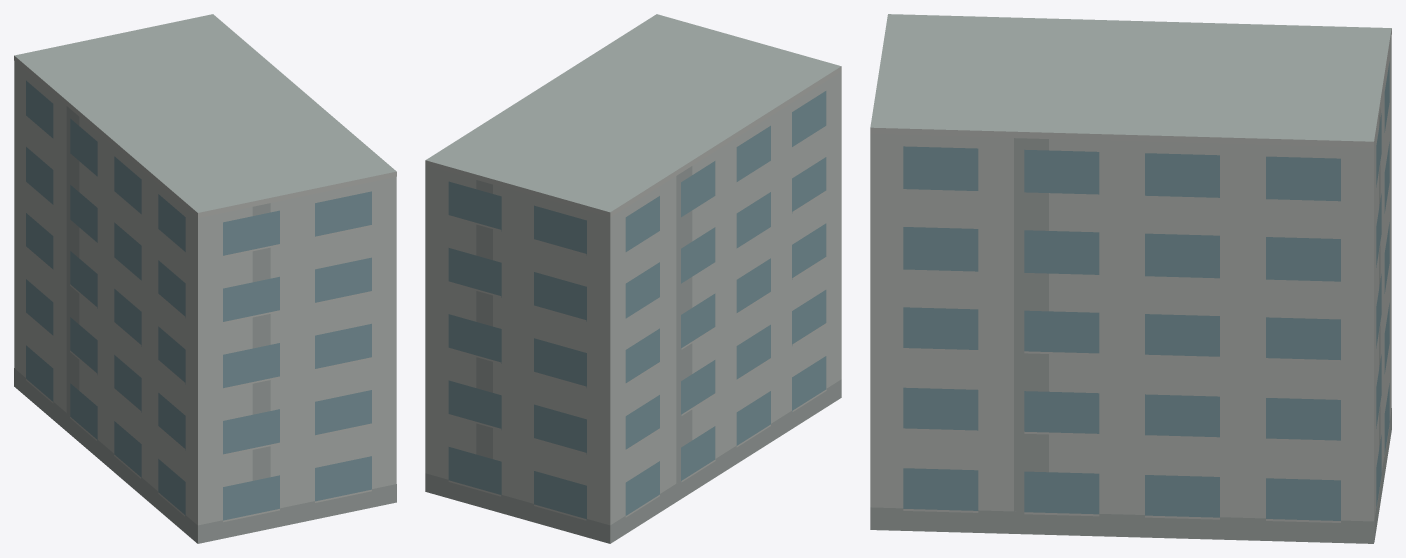
The model's file is survey-upis-32542073.glb.
3 renders of one model, left to right at view 1: azimuth 30°, elevation 25°; view 2: azimuth 150°, elevation 25°; view 3: azimuth 270°, elevation 25°, orthographic. The views are drawn at different scales.
Parts seen in each view (by area): view 1: survey-upis-32542073.tmp; view 2: survey-upis-32542073.tmp; view 3: survey-upis-32542073.tmp.
Boxes of the visible parts, bbox=[...] form: survey-upis-32542073.tmp: bbox=[14, 14, 396, 543]; survey-upis-32542073.tmp: bbox=[425, 14, 841, 543]; survey-upis-32542073.tmp: bbox=[870, 14, 1391, 543].
Bounding box in the file's own units: 10.39 × 15.25 × 17.93.
